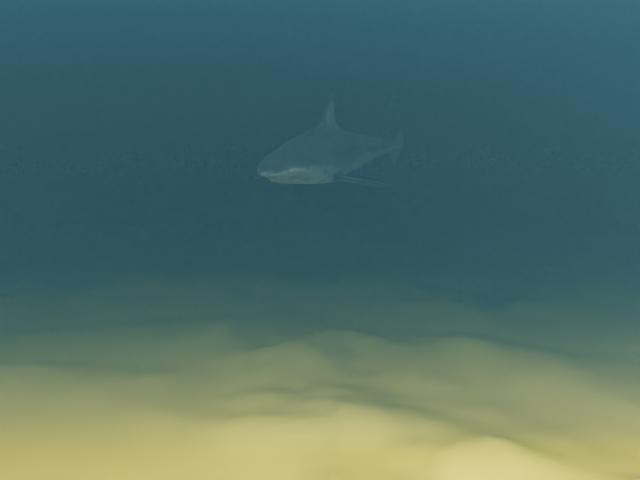Carribean Shark.001: (253, 94, 404, 188)
